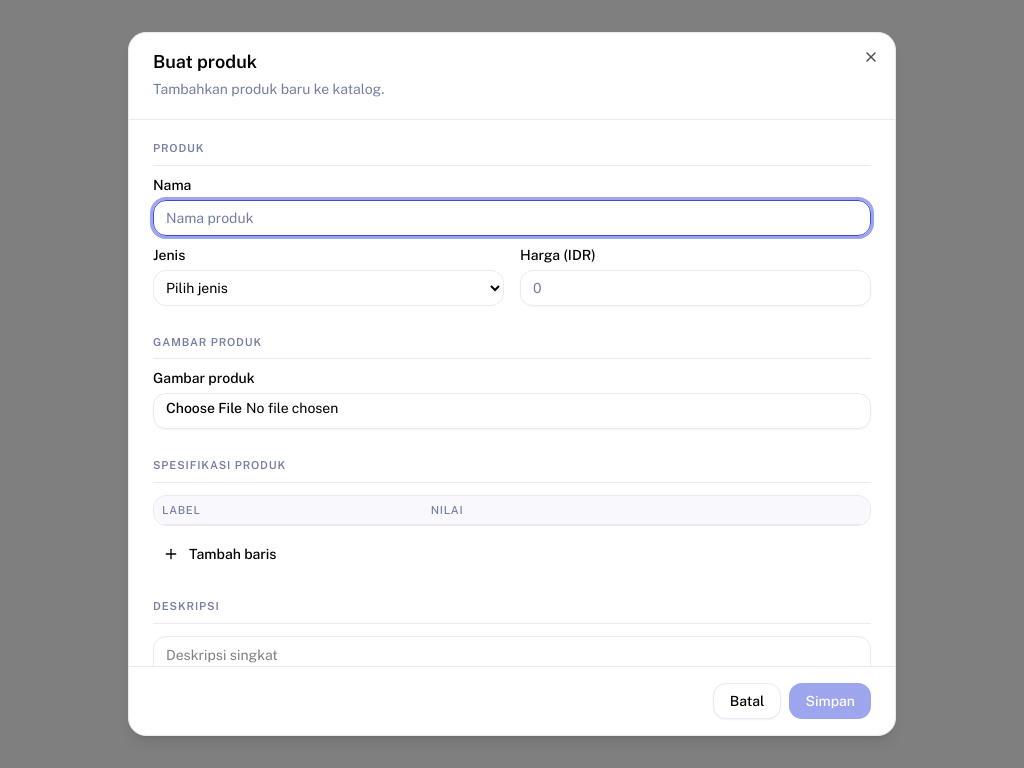
Scenario: ProductModal › offers merchandise and shows stock, weight, and image fields when selected
Select "Merchandise" in the dropdown labelled "Jenis": (328, 288) [153,270,504,306]
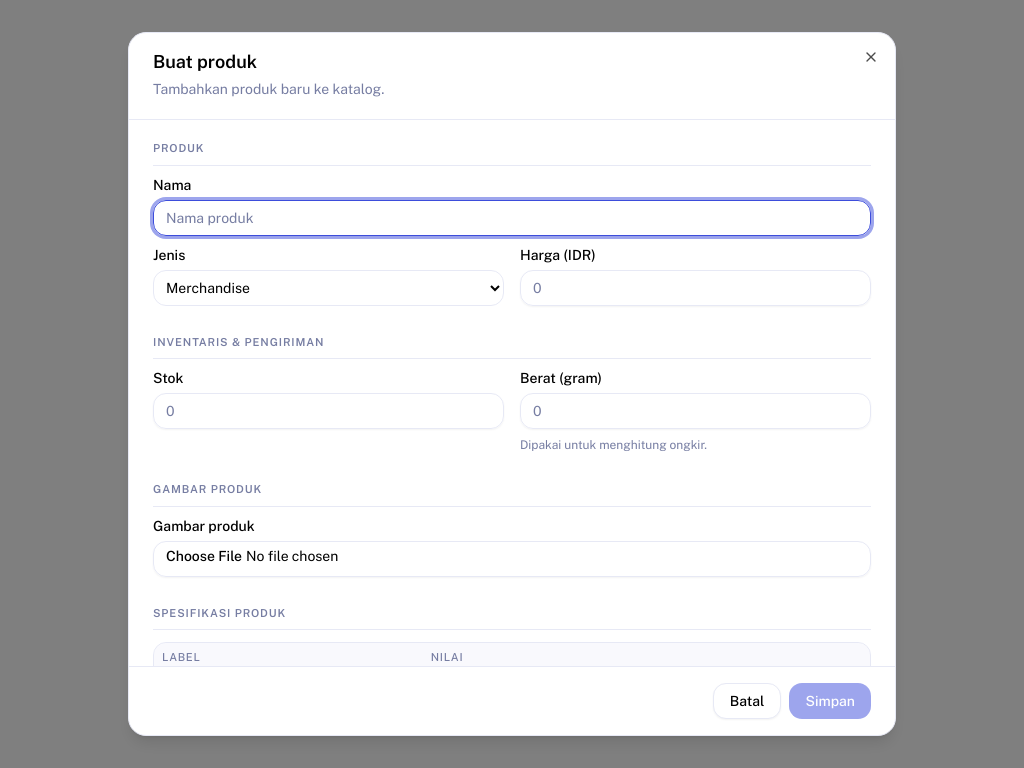
expect the file field labelled "Gambar produk" is shown: met, box [153,540,871,576]
expect the number field labelled "Stok" is shown: met, box [153,393,504,429]
expect the number field labelled "Berat (gram)" is shown: met, box [520,393,871,429]
